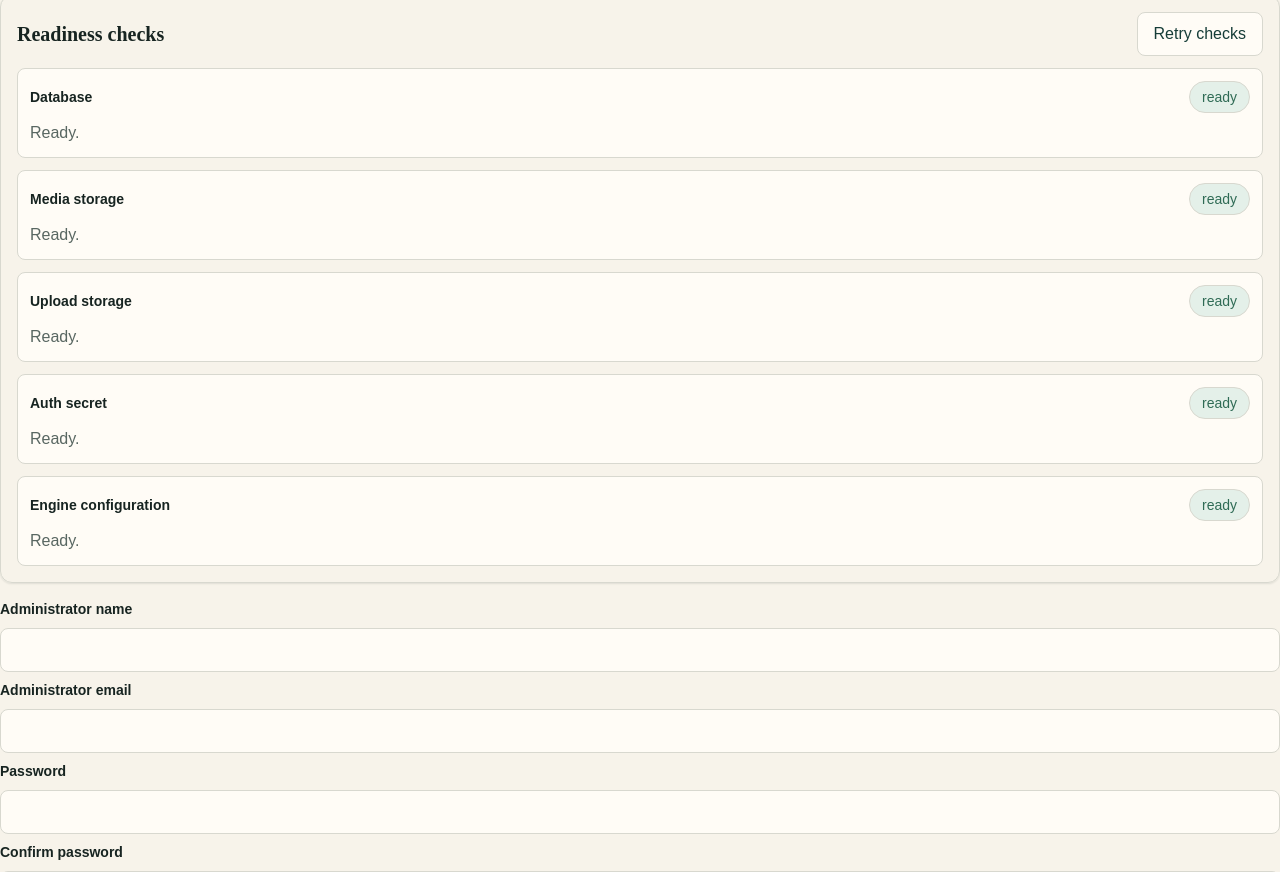
Scenario: BootstrapSetupForm › blocks a blank password confirmation through the field and error summary
Type "correct horse battery staple" into the password field labelled "Password". click: (640, 812)
box: [0, 790, 1279, 834]
(page scrolled)
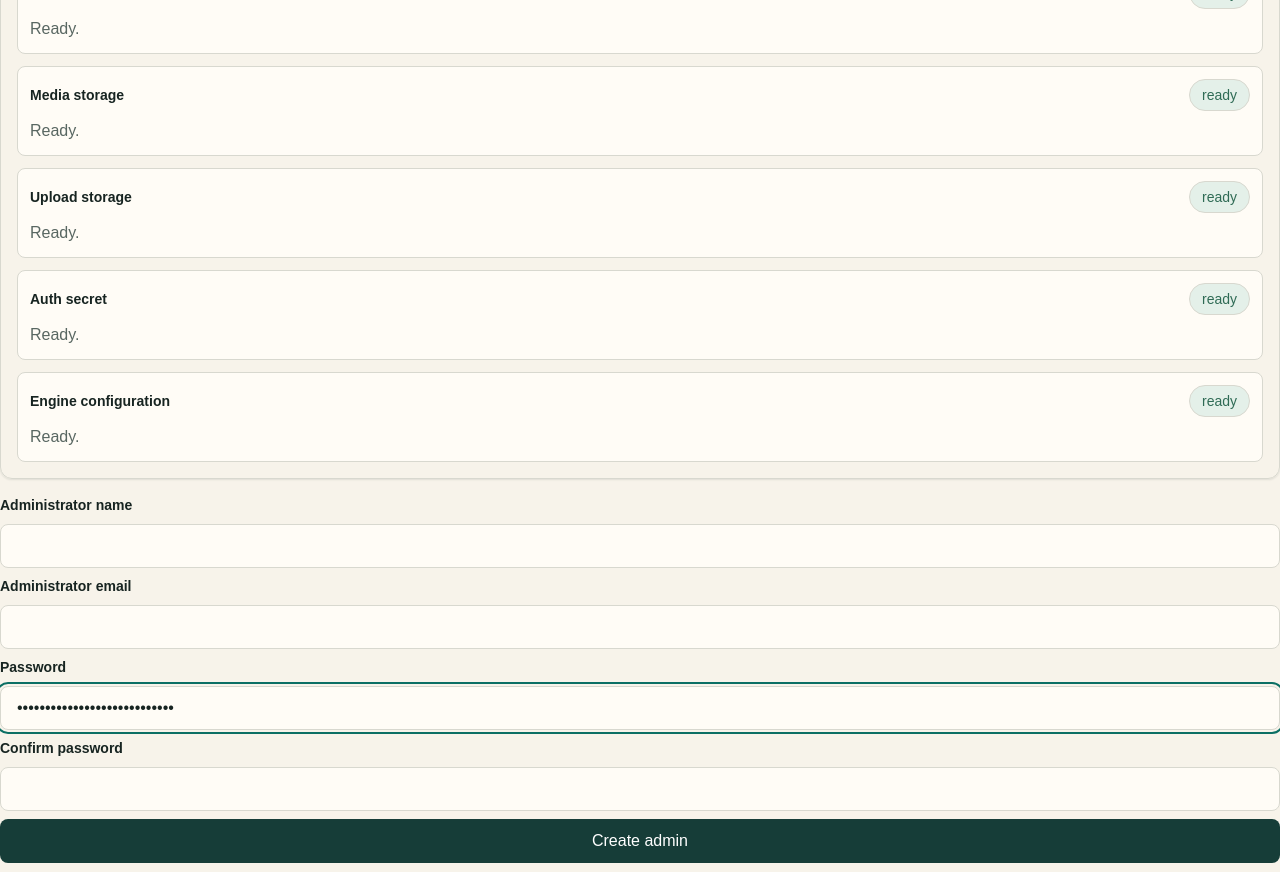
Click the button "Create admin". click: (640, 841)
box: [0, 819, 1279, 863]
(page scrolled)
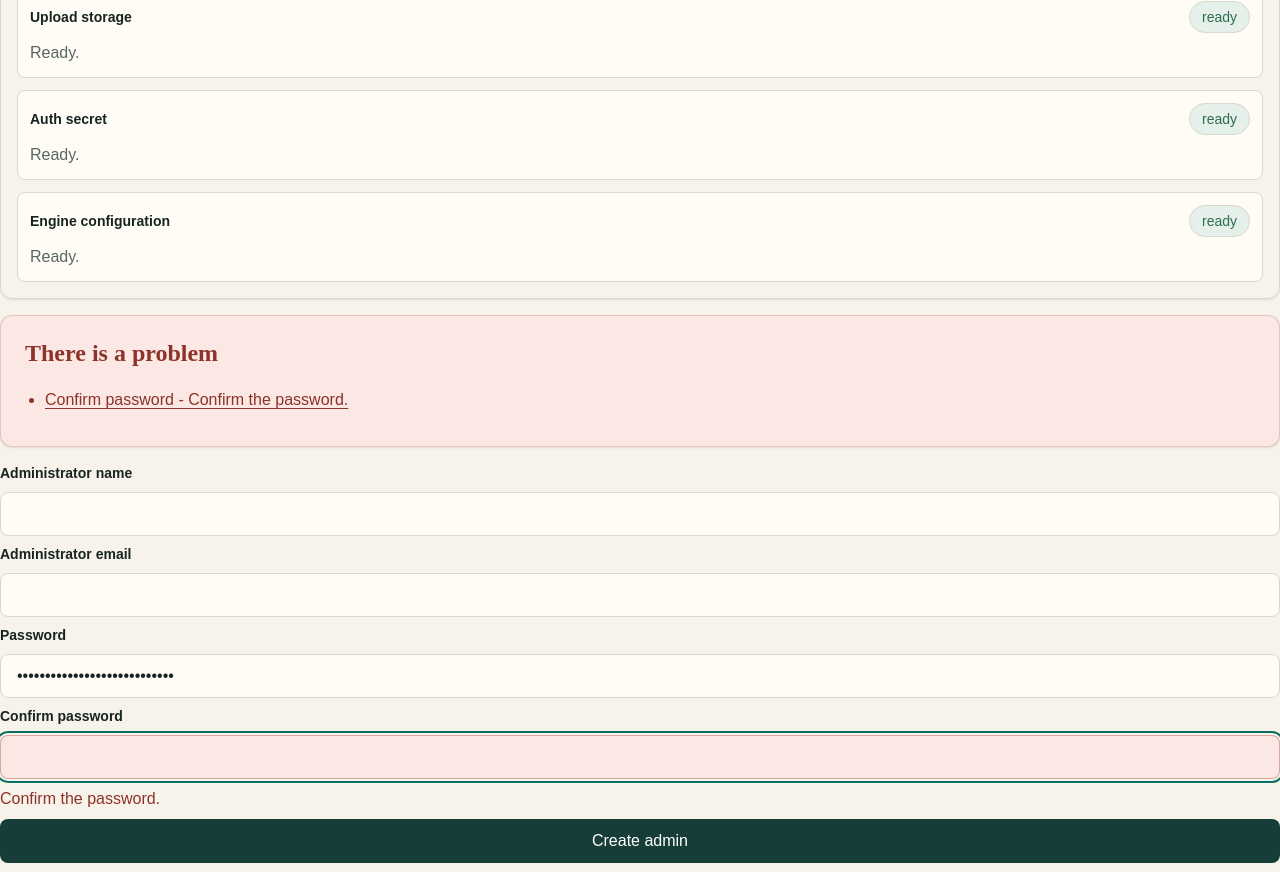
Now the text "Confirm the password." is shown, box [0, 790, 160, 807]
Now the link "Confirm password - Confirm the password." is shown, box [45, 391, 348, 408]
